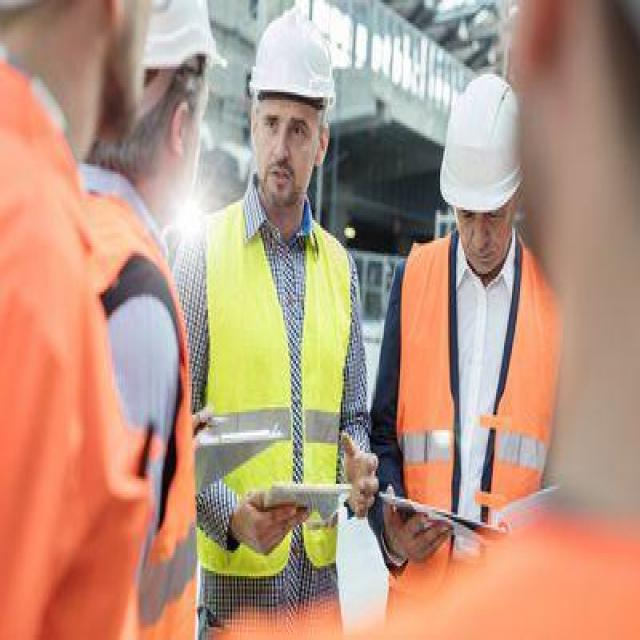Reflective-Jacket: (195, 207, 358, 581), (395, 235, 565, 532)
Safety-Helmet: (437, 66, 528, 212), (248, 8, 338, 108), (138, 2, 216, 80)
